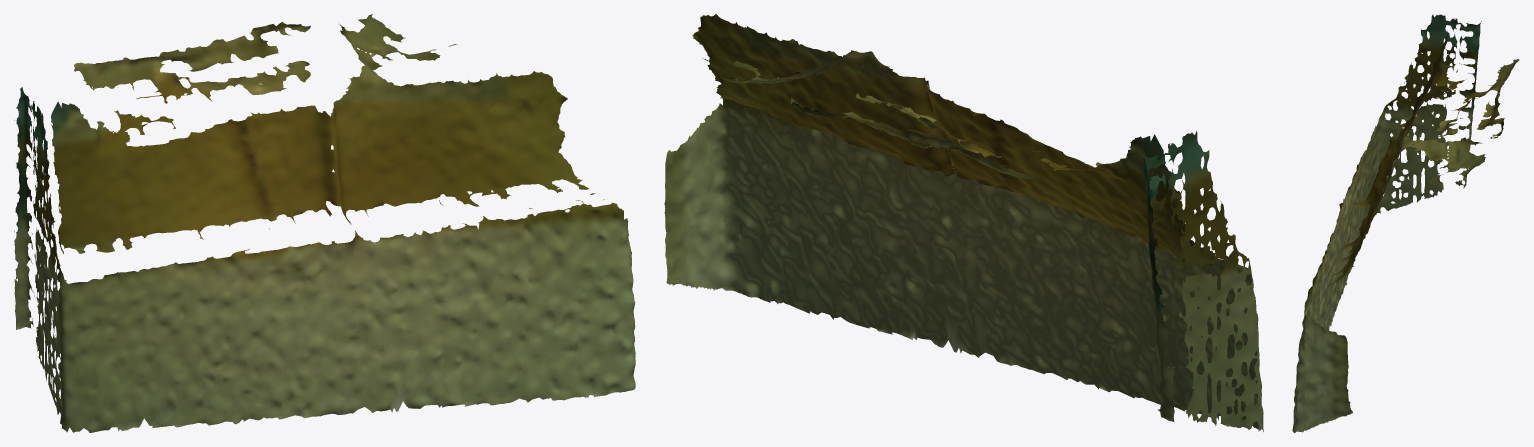
The model's file is color_model_f007_20260206_132734.obj.
3 renders of one model, left to right at view 1: azimuth 30°, elevation 25°; view 2: azimuth 150°, elevation 25°; view 3: azimuth 270°, elevation 25°, orthographic. The views are drawn at different scales.
Size of the model in its own units: 1.78 by 1.05 by 0.8982.
